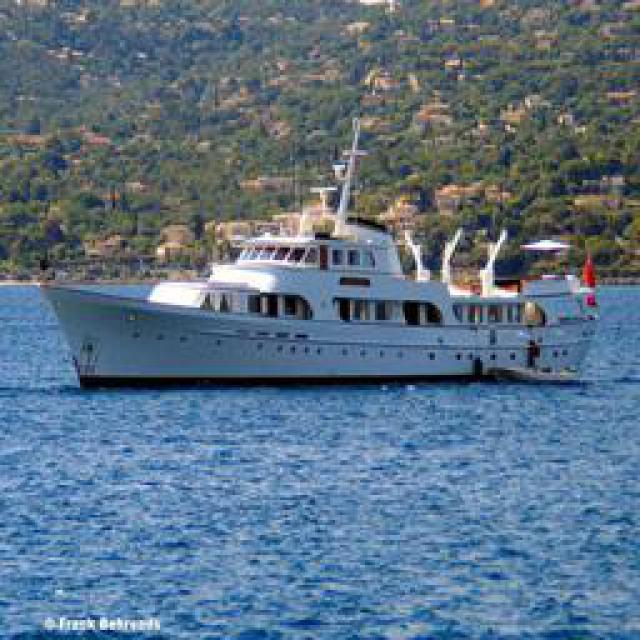Ship: (28, 154, 606, 387)
